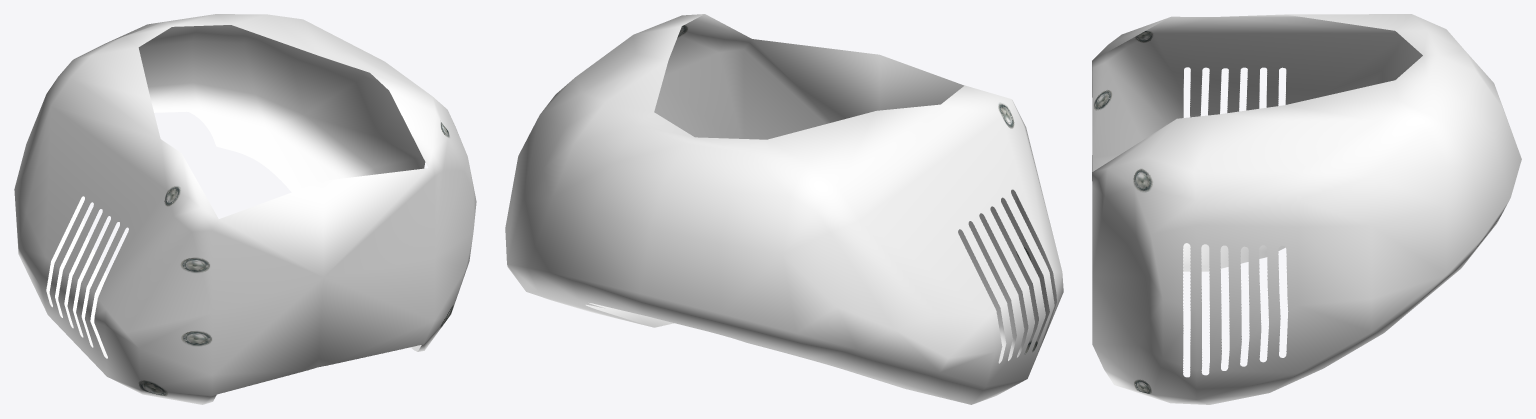
The model's file is lj2_right.obj.
3 views of the same model, side by side, from view 1: azimuth 30°, elevation 25°; view 2: azimuth 150°, elevation 25°; view 3: azimuth 270°, elevation 25° (orthographic). The views are drawn at different scales.
Bounding box in the file's own units: 0.2392 × 0.1486 × 0.2141.
Materials: 1 (1 with a texture image).
